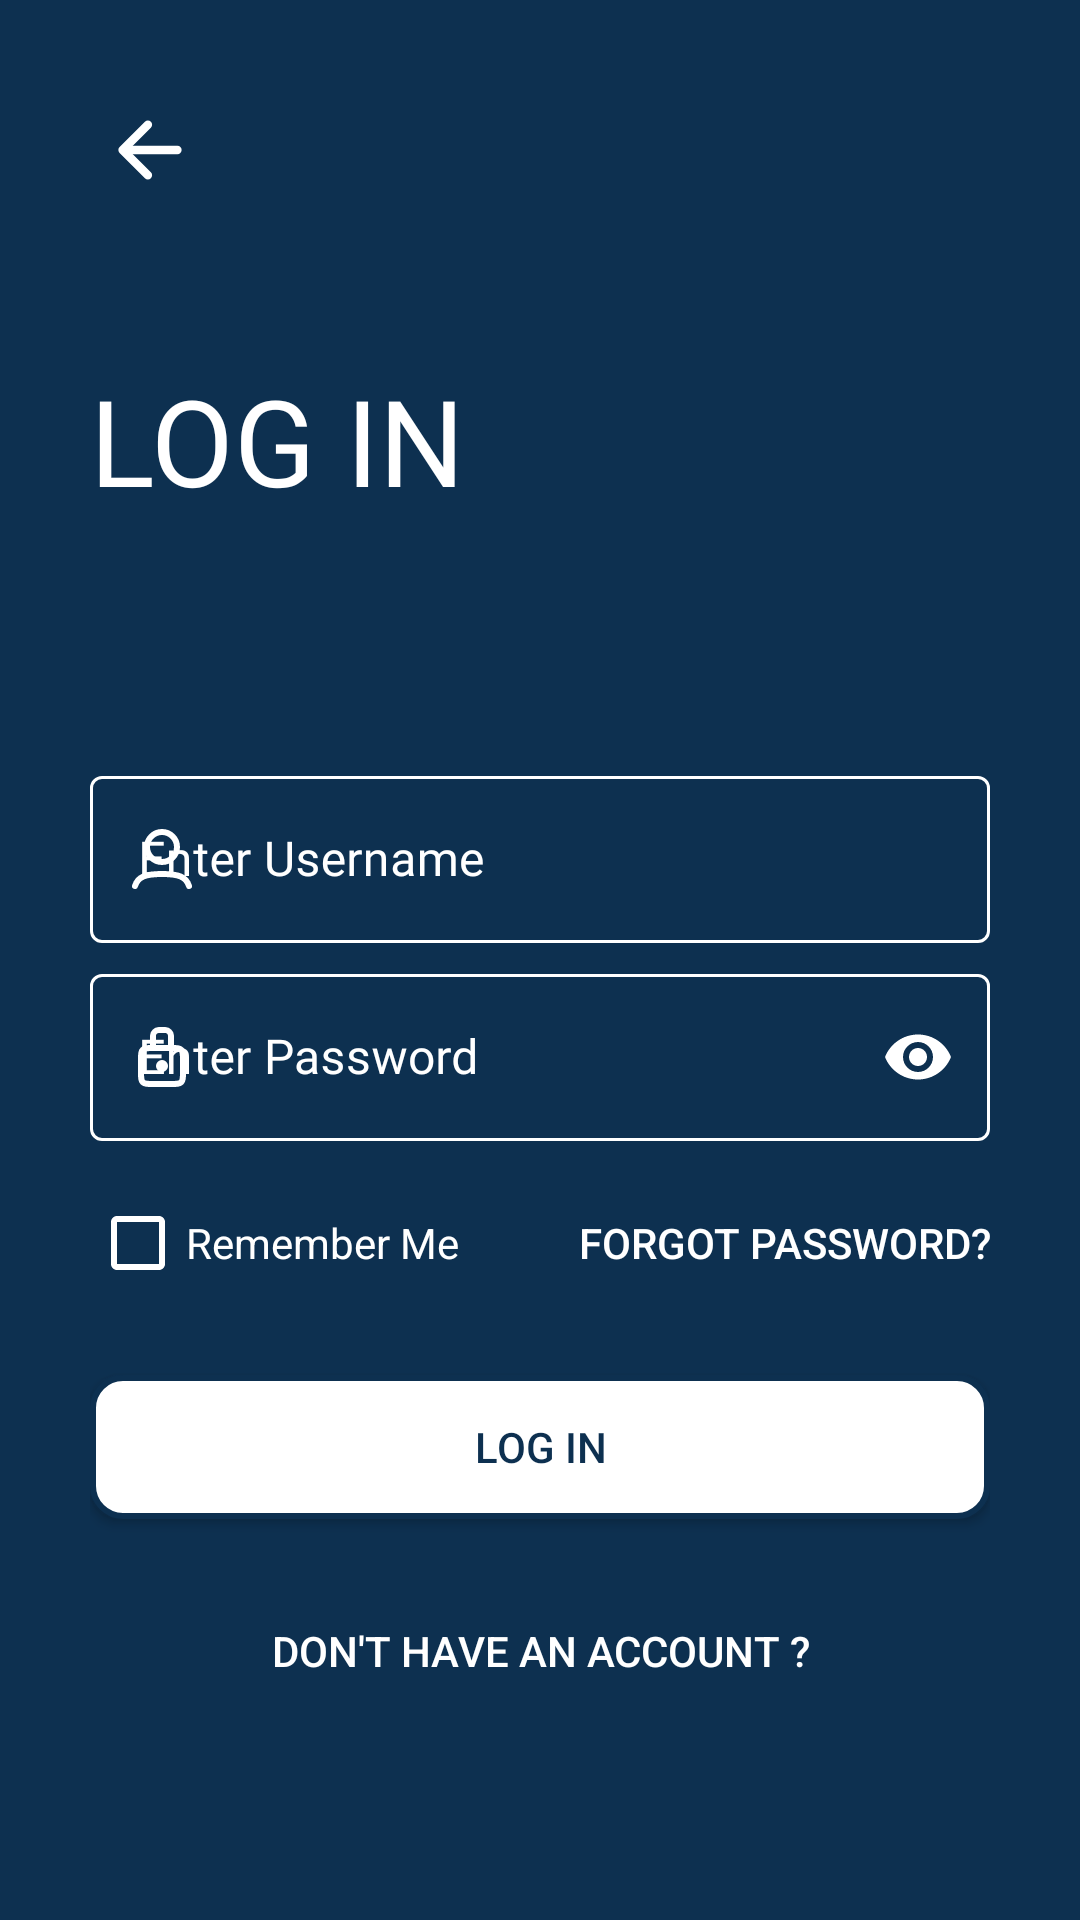

Named icons in this screenshot (1080x1920) and their centers, (x,y):
arrow back: (150,150)
